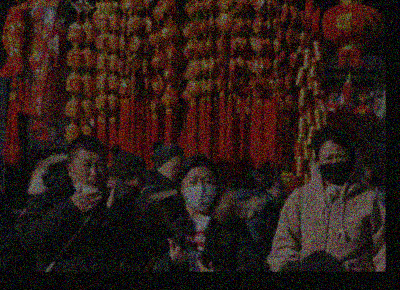mask_weared_incorrect: (72, 153, 106, 194)
with_mask: (318, 146, 353, 183), (181, 174, 214, 210)
without_mask: (127, 170, 145, 191), (267, 180, 283, 201)
